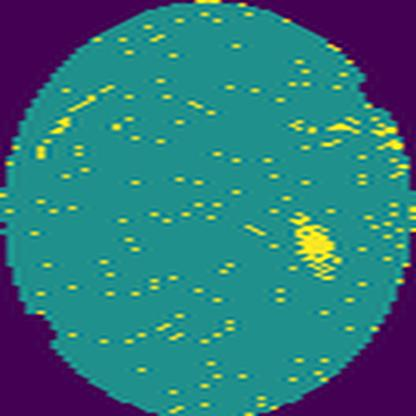Edge-Loc: (295, 212, 339, 280)
